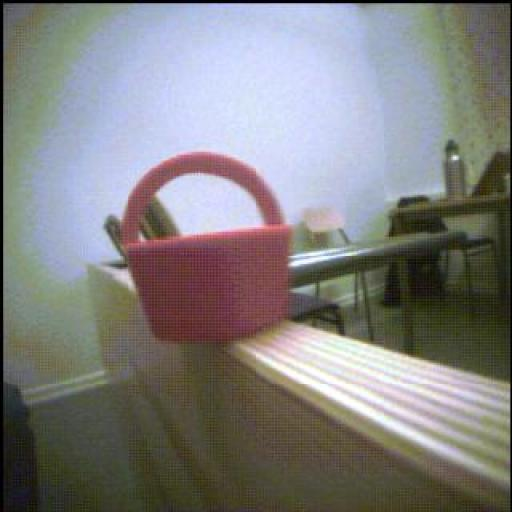Bucket: (121, 149, 298, 345)
